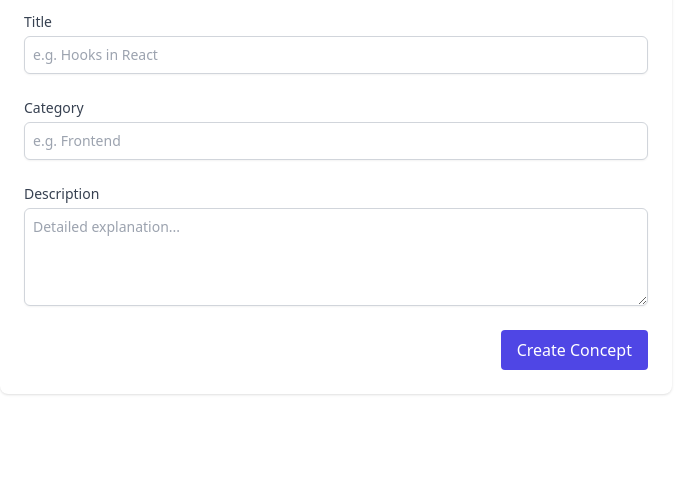
ConceptForm › should show validation errors
// Submit empty form
Click the button "Create Concept" at (574, 350), box [501,330,648,370]
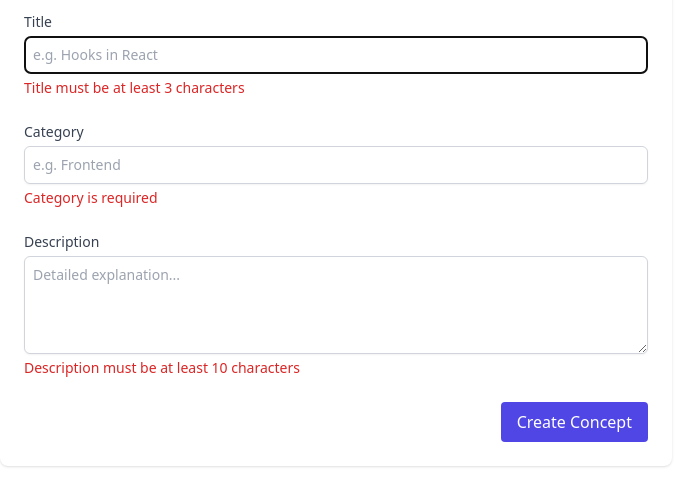
Now the text "Title must be at least 3 characters" is shown, box [24,78,245,97]
Now the text "Category is required" is shown, box [24,188,158,207]
